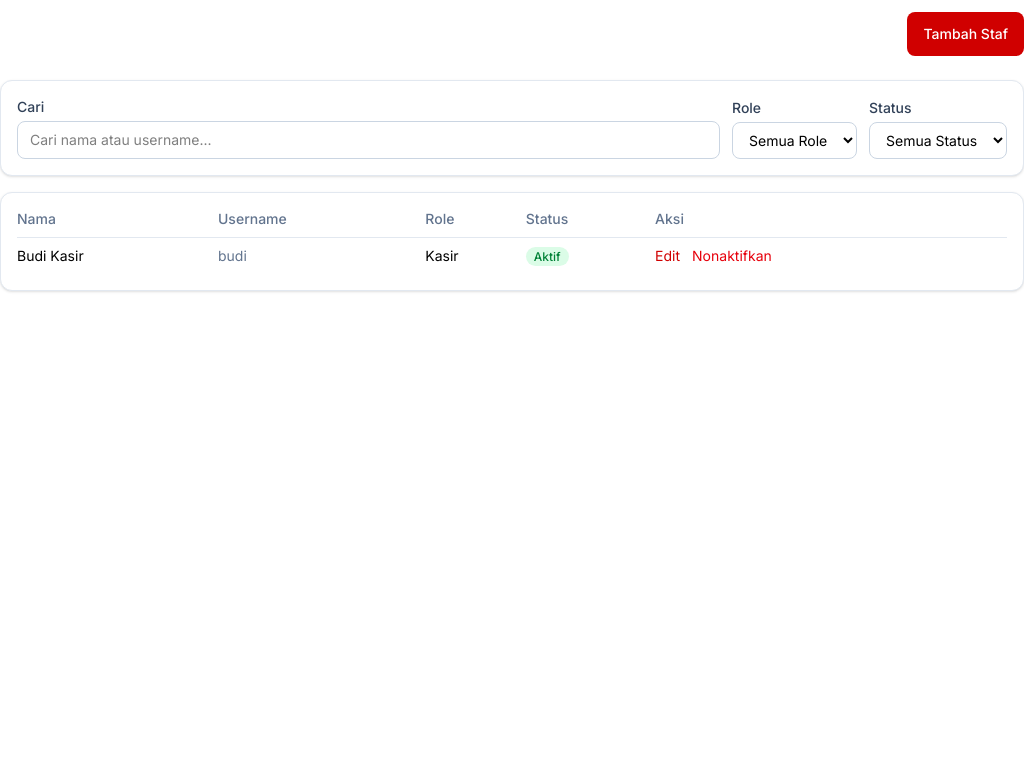
StaffPage › form create gagal -- pesan error ditampilin, TETAP di form (gak balik ke list)
expect the text "Budi Kasir" is shown: met, box x1=17 y1=238 x2=218 y2=274
Click the button "Tambah Staf" at (966, 34), box x1=908 y1=12 x2=1024 y2=56
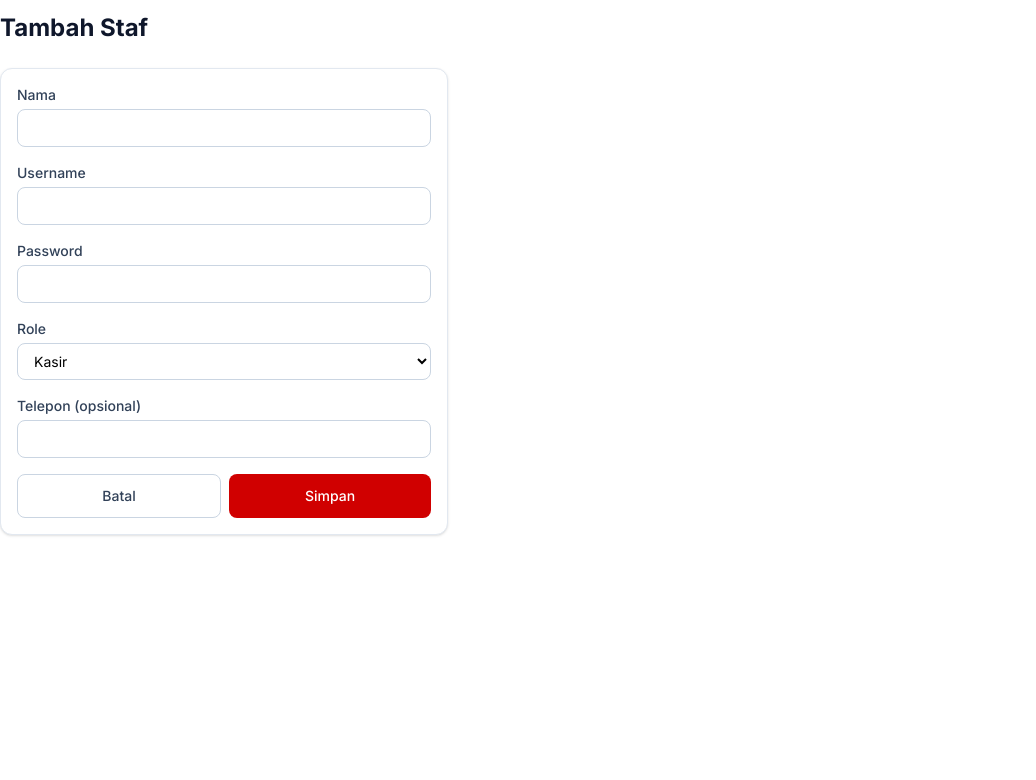
Type "Duplikat" into the field labelled "Nama" at (224, 128), box x1=17 y1=109 x2=431 y2=147
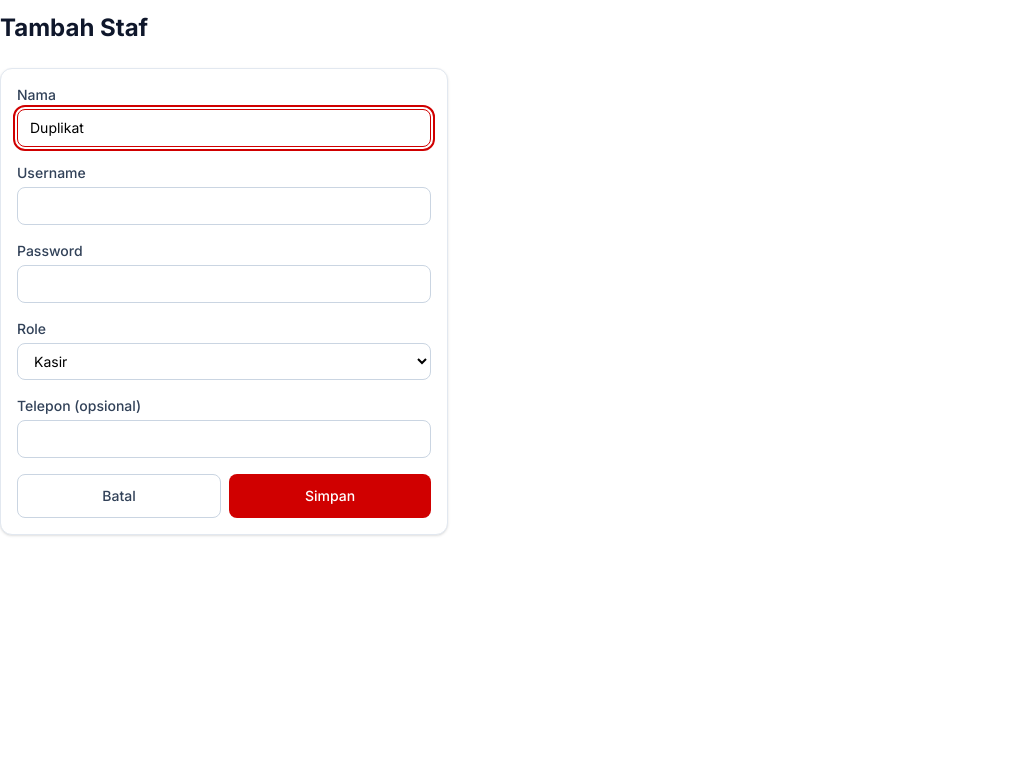
Type "budi" into the field labelled "Username" at (224, 206), box x1=17 y1=187 x2=431 y2=225
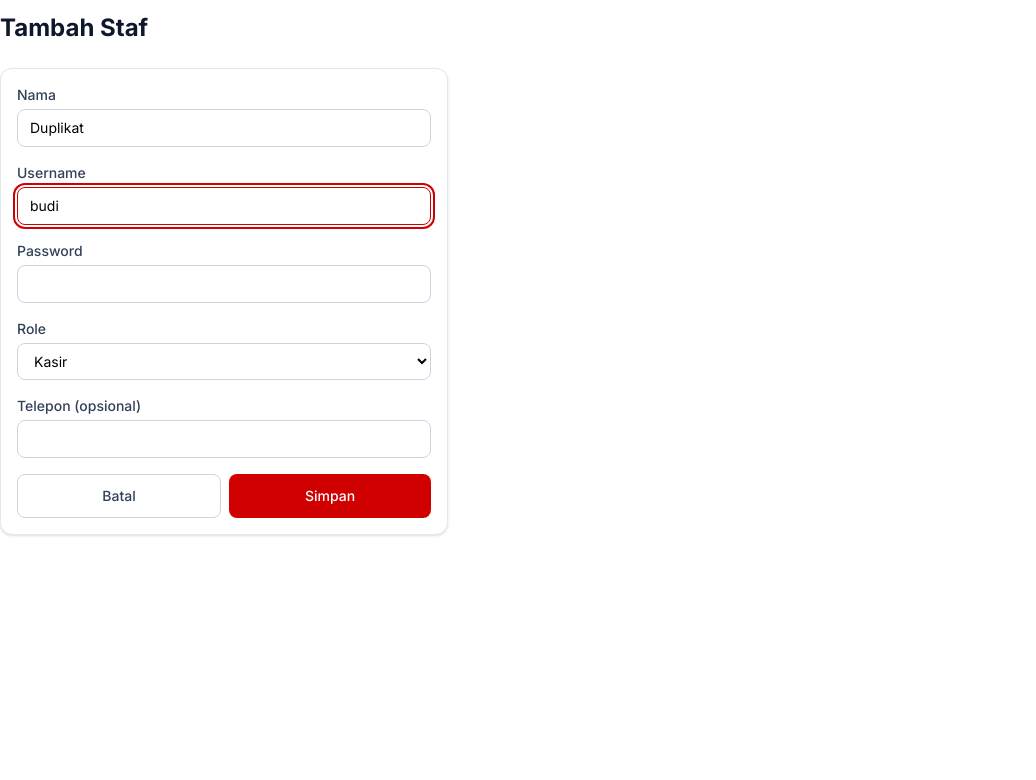
Type "apapun123" into the password field labelled "Password" at (224, 284), box x1=17 y1=265 x2=431 y2=303
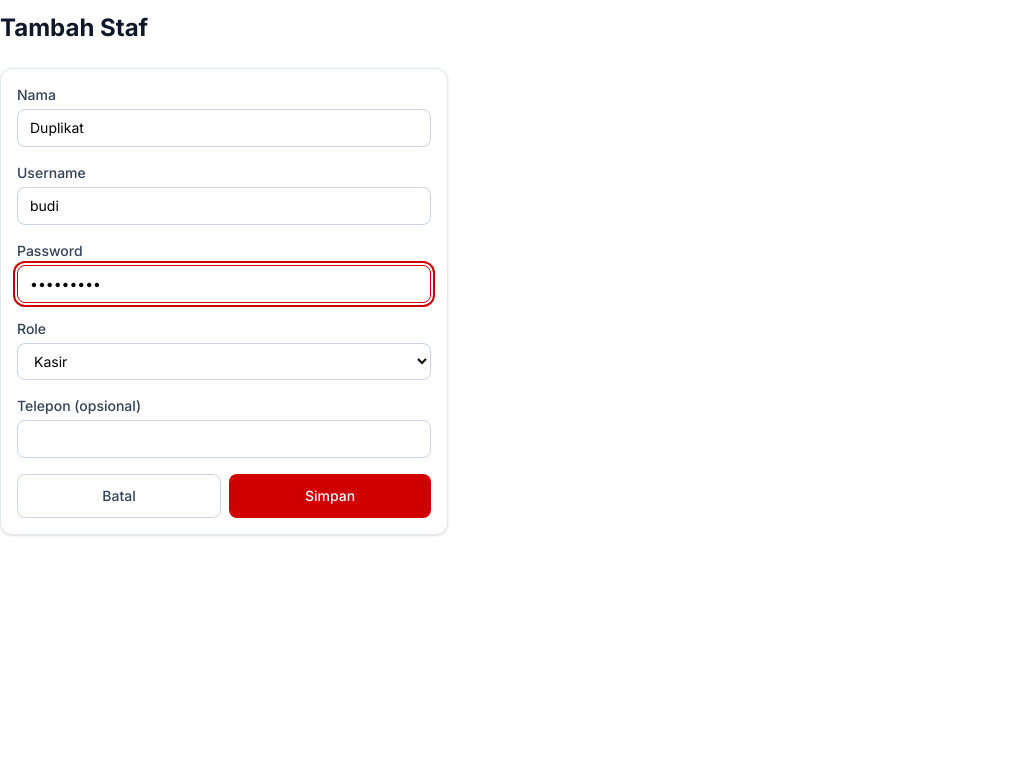
Click the button "Simpan" at (330, 496), box x1=229 y1=474 x2=431 y2=518
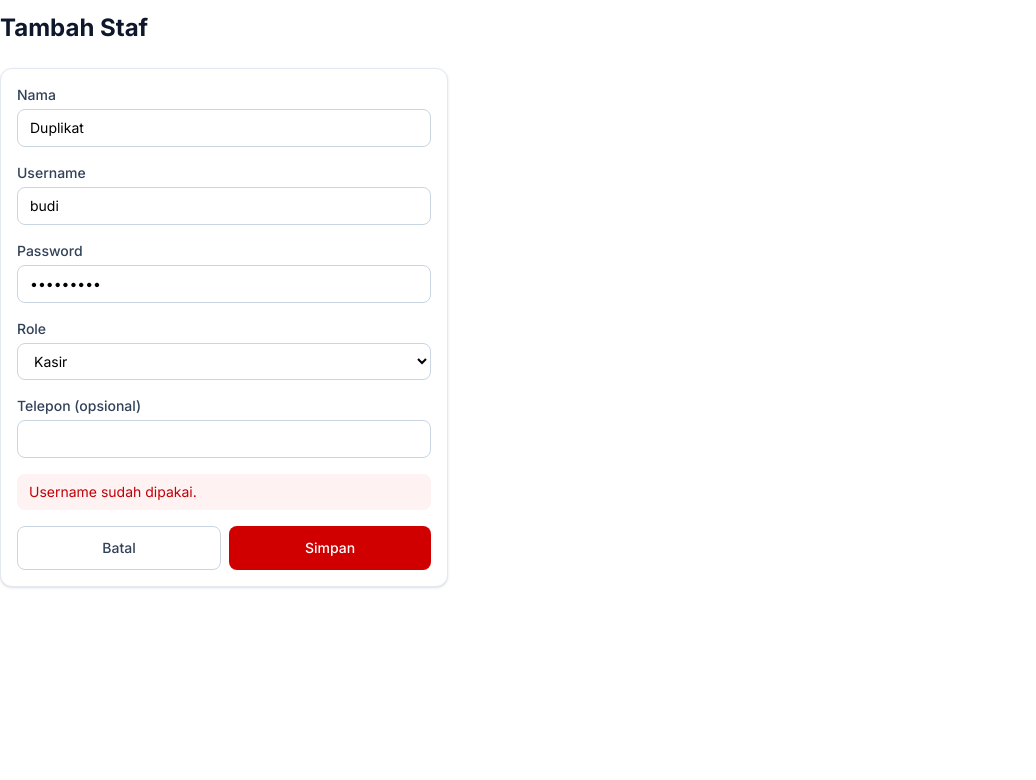
expect the text "Username sudah dipakai." is shown: met, box x1=17 y1=474 x2=431 y2=510
